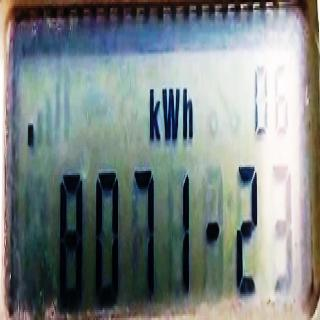-: (206, 217, 220, 244), (26, 119, 34, 150)
0: (91, 161, 124, 316), (252, 59, 271, 142)
1: (176, 163, 198, 304)
2: (232, 152, 264, 307)
3: (270, 152, 297, 302)
6: (273, 53, 290, 140)
7: (132, 156, 160, 305)
8: (56, 164, 86, 317)
